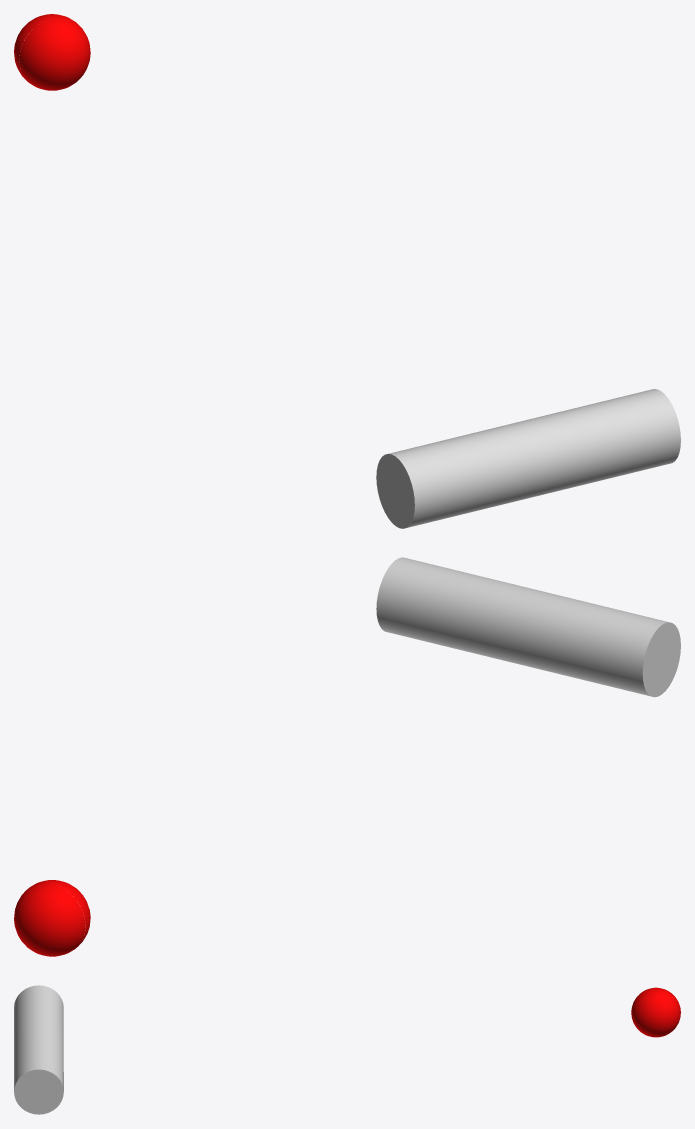
3 renders of one model, top to bottom at view 1: azimuth 30°, elevation 25°; view 2: azimuth 150°, elevation 25°; view 3: azimuth 270°, elevation 25°, orthographic. The views are drawn at different scales.
Parts seen in each view (by area): view 1: Cylinder, Ball; view 2: Cylinder, Ball; view 3: Cylinder, Ball.
Part boxes in pixels (x1=…): Cylinder: x1=376, y1=389, x2=680, y2=528; Ball: x1=14, y1=14, x2=90, y2=90; Cylinder: x1=376, y1=557, x2=680, y2=697; Ball: x1=14, y1=880, x2=90, y2=956; Cylinder: x1=14, y1=985, x2=63, y2=1114; Ball: x1=631, y1=987, x2=680, y2=1037.
Bounding box in the file's own units: 4 × 1.83 × 13.4.
